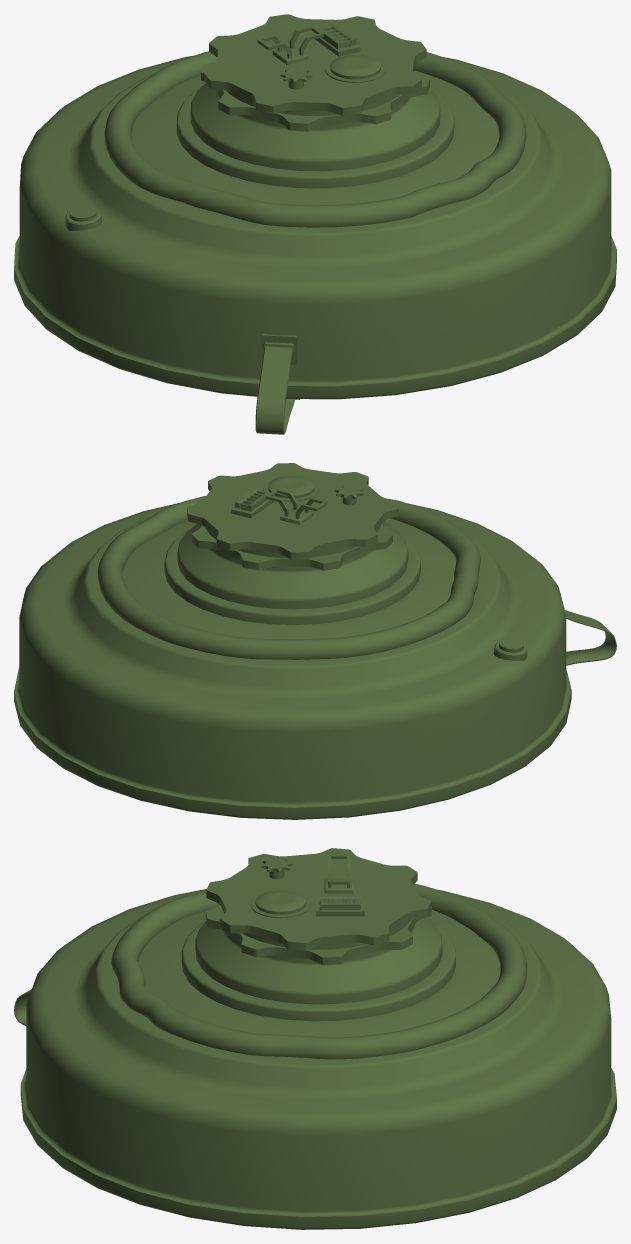
The model's file is tm-62-family.glb.
The picture shows the model from 3 angles, top to bottom: view 1: azimuth 30°, elevation 25°; view 2: azimuth 150°, elevation 25°; view 3: azimuth 270°, elevation 25°; orthographic projection. The views are drawn at different scales.
Visible parts, largest first — view 1: Cylinder_17, Torus_13, Cylinder.001_16, Cylinder.006_7, BezierCurve_12, Cylinder.002_15, Cube.001_14, Cube.004_2, Cube.002_4; view 2: Cylinder_17, Torus_13, Cylinder.001_16, Cylinder.006_7, BezierCurve_12, Cylinder.002_15, Cube.001_14, Cube.004_2; view 3: Cylinder_17, Torus_13, Cylinder.001_16, Cylinder.006_7, Cylinder.002_15, Cube.004_2.
Part boxes in pixels (x1,y1,x2,y2): Cylinder_17: (14, 56, 616, 399); Torus_13: (104, 51, 526, 227); Cylinder.001_16: (204, 14, 426, 115); Cylinder.006_7: (201, 62, 429, 131); BezierCurve_12: (255, 346, 295, 434); Cylinder.002_15: (330, 55, 380, 79); Cube.001_14: (257, 25, 323, 58); Cube.004_2: (314, 24, 360, 56); Cube.002_4: (260, 333, 296, 364); Cylinder_17: (14, 503, 571, 819); Torus_13: (97, 496, 480, 659); Cylinder.001_16: (187, 463, 398, 559); Cylinder.006_7: (191, 499, 392, 570); BezierCurve_12: (565, 610, 616, 665); Cylinder.002_15: (268, 476, 314, 498); Cube.001_14: (266, 489, 327, 519); Cube.004_2: (231, 488, 273, 518); Cylinder_17: (20, 889, 616, 1229); Torus_13: (111, 883, 526, 1059); Cylinder.001_16: (206, 848, 431, 950); Cylinder.006_7: (205, 905, 431, 965); Cylinder.002_15: (255, 890, 305, 914); Cube.004_2: (316, 895, 364, 916).
Size of the model in its own units: 4.22 by 1.87 by 4.27.
